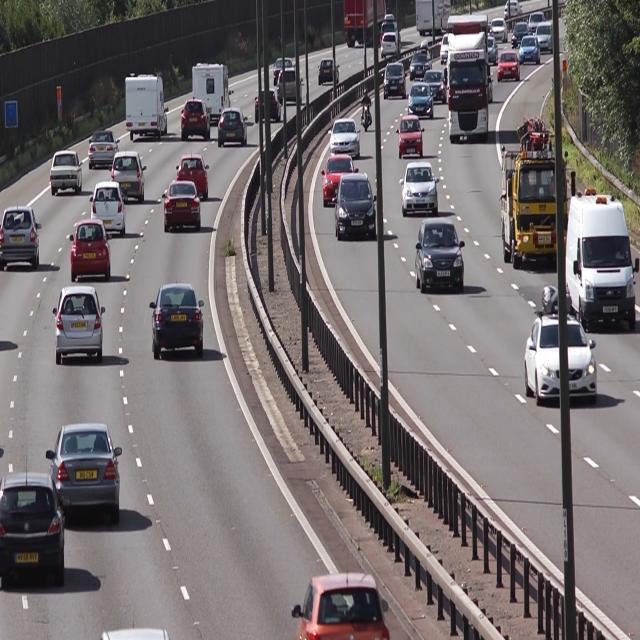Car: (500, 118, 574, 266), (567, 192, 637, 331), (526, 281, 600, 407), (0, 469, 65, 584), (51, 420, 123, 514), (446, 15, 489, 140), (148, 280, 206, 362), (52, 286, 106, 366), (414, 215, 465, 292), (124, 71, 170, 142), (68, 220, 113, 282), (339, 171, 377, 240), (0, 207, 41, 270), (193, 59, 232, 120), (92, 180, 128, 239), (404, 162, 441, 217), (164, 182, 202, 232), (112, 150, 147, 203), (180, 95, 212, 146), (49, 148, 84, 194), (324, 154, 356, 203), (178, 153, 210, 199), (216, 107, 250, 147), (332, 116, 362, 158), (90, 129, 122, 168), (397, 117, 425, 158), (384, 58, 408, 99), (256, 87, 280, 123), (496, 50, 522, 81), (410, 86, 434, 118), (426, 69, 445, 102), (520, 33, 540, 64), (412, 44, 429, 76)
